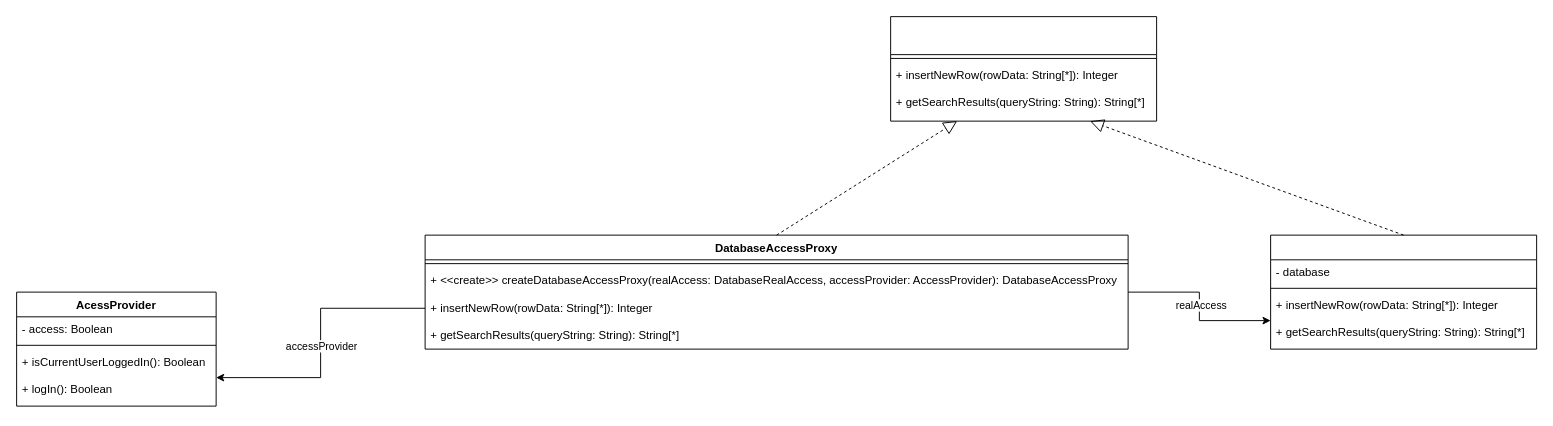
Some shapes in this 1553 by 426 pixel diagram are drawn without their labels. The box of each missing label's shape, as (x1, y1, x2, y2) in pixels:
<<interface>> DatabaseAccess: (890, 16, 1157, 121)
DatabaseRealAccess: (1270, 234, 1537, 349)
